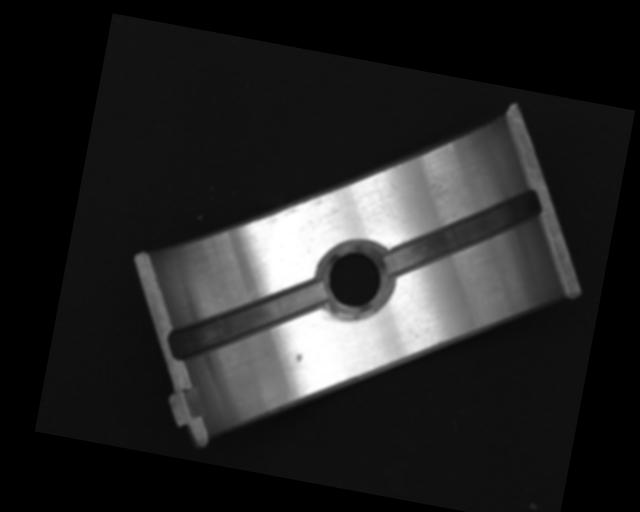bruise: (294, 353, 304, 364)
gap: (382, 166, 544, 299), (165, 254, 327, 383)
hole: (319, 238, 394, 321)
